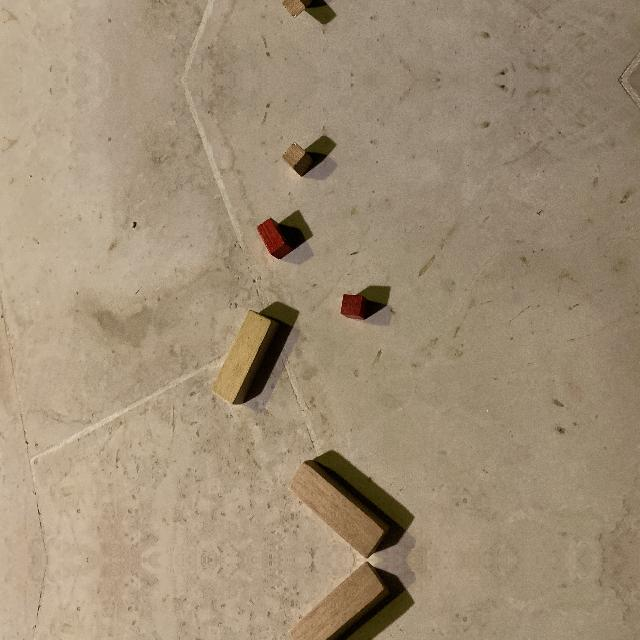cube: (282, 143, 313, 177), (282, 0, 313, 17)
jenga: (290, 460, 392, 558), (290, 562, 392, 640)
red block: (212, 310, 280, 405), (256, 218, 290, 260)
red cube: (340, 294, 363, 320)
